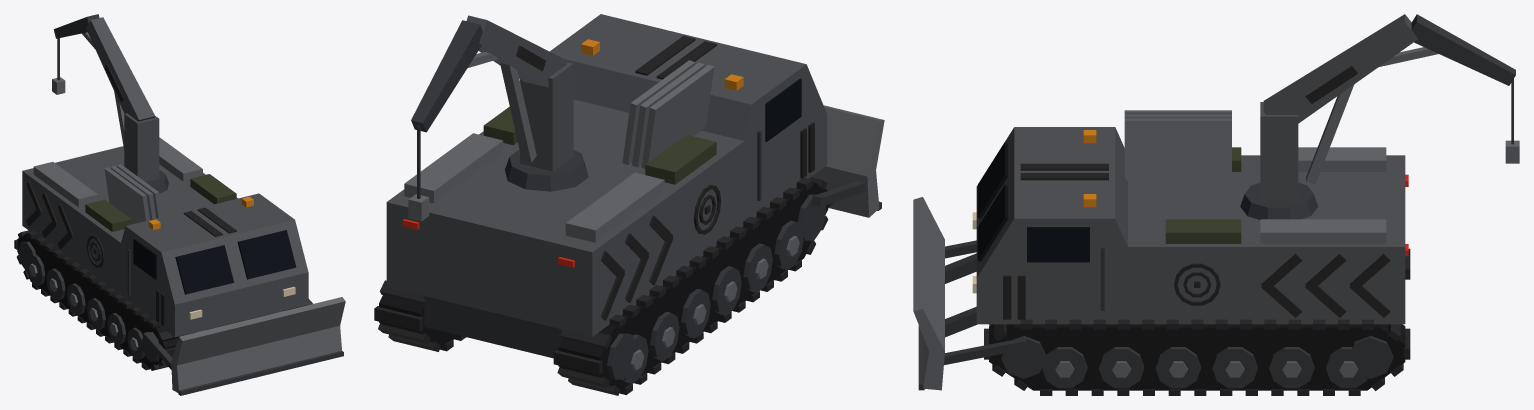
Rendered from engineer.glb.
3 renders of one model, left to right at view 1: azimuth 30°, elevation 25°; view 2: azimuth 150°, elevation 25°; view 3: azimuth 270°, elevation 25°, orthographic. The views are drawn at different scales.
Parts seen in each view (by area): view 1: body; view 2: body; view 3: body.
Boxes of the visible parts, box(x1,y1,x2,y2) form: body: box(14, 14, 345, 395); body: box(374, 14, 884, 395); body: box(913, 14, 1519, 395).
Bounding box in the file's own units: 4.2 × 5.83 × 9.61.
